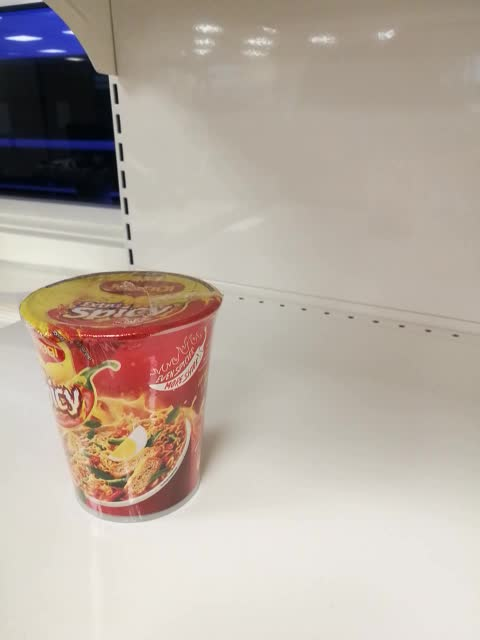maggi: (17, 270, 224, 525)
